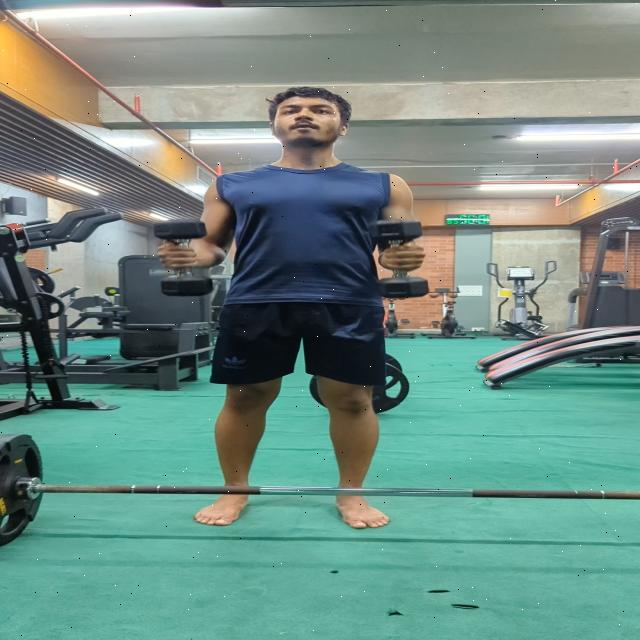Normal_DumbbellBicepCurls: (148, 80, 444, 539)
